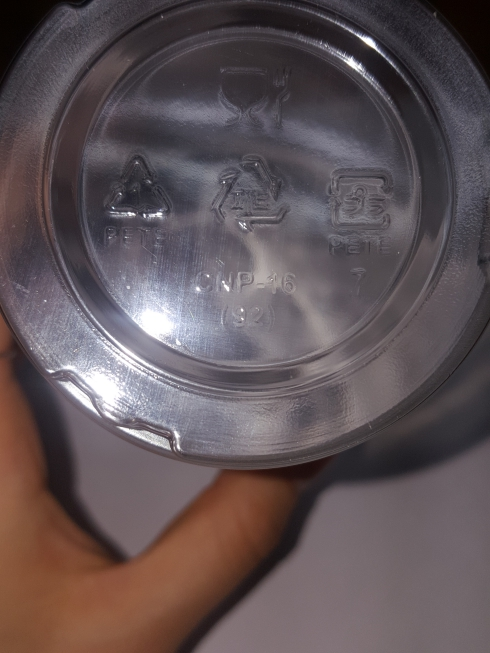recycle: (91, 131, 181, 269)
